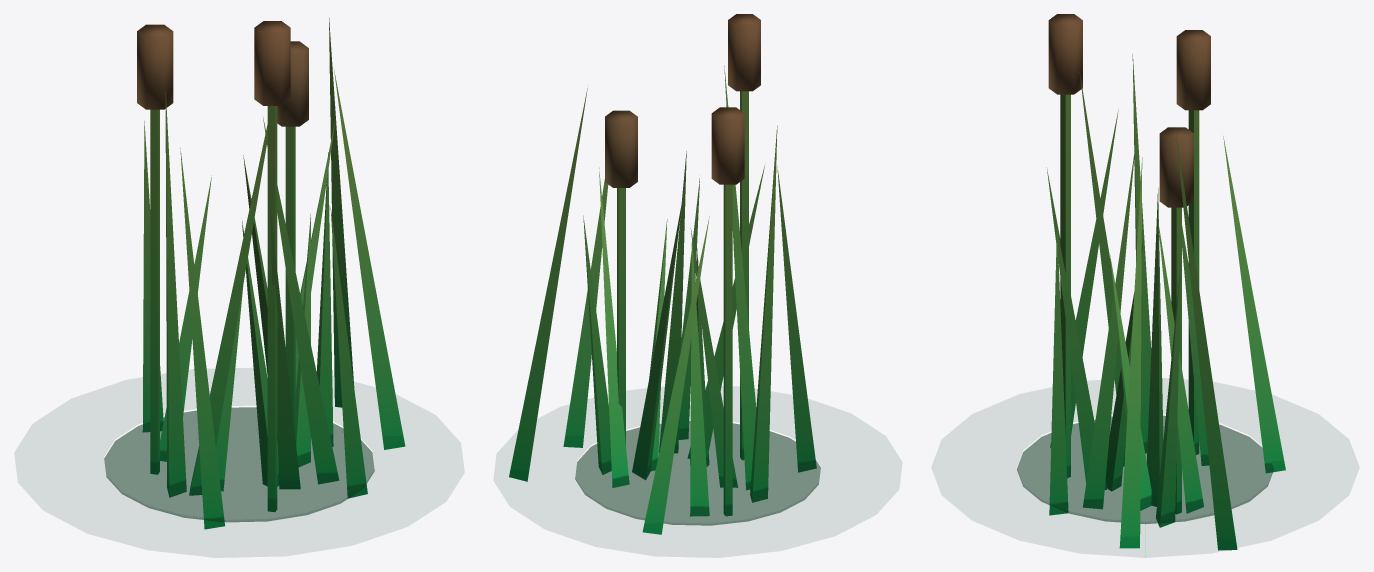
File: reeds.glb
3 views of the same model, side by side, from view 1: azimuth 30°, elevation 25°; view 2: azimuth 150°, elevation 25°; view 3: azimuth 270°, elevation 25° (orthographic). The views are drawn at different scales.
Visible parts, largest first — view 1: reeds; view 2: reeds; view 3: reeds.
Boxes of the visible parts, <box> form: reeds: <box>104,18,405,529</box>; reeds: <box>509,14,820,534</box>; reeds: <box>1017,14,1285,557</box>.
Bounding box in the file's own units: 0.8 × 0.9407 × 0.8.
